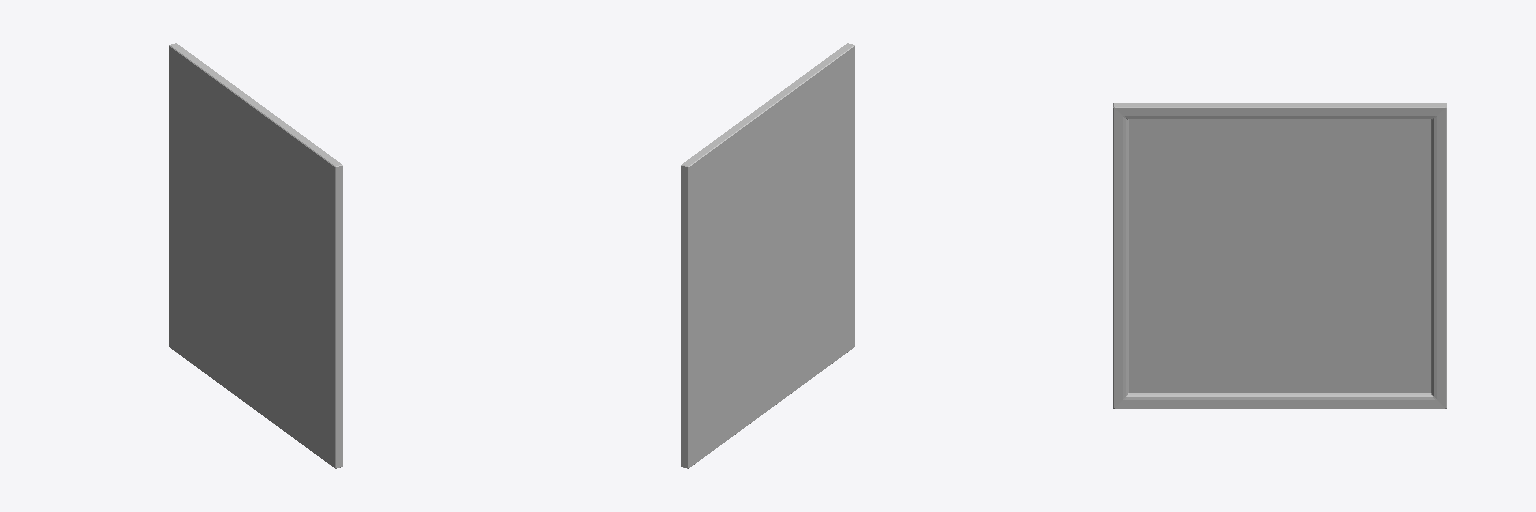
The model's file is uploads_files_3061179_Abstract+Picture.obj.
The picture shows the model from 3 angles: view 1: azimuth 30°, elevation 25°; view 2: azimuth 150°, elevation 25°; view 3: azimuth 270°, elevation 25°; orthographic projection.
Visible parts, largest first — view 1: Picture_LP; view 2: Picture_LP; view 3: Picture_LP.
Boxes of the visible parts, <box> form: Picture_LP: <box>169,43,342,468</box>; Picture_LP: <box>681,43,854,468</box>; Picture_LP: <box>1113,103,1446,408</box>.
Size of the model in its own units: 2.92 by 99.98 by 99.98.